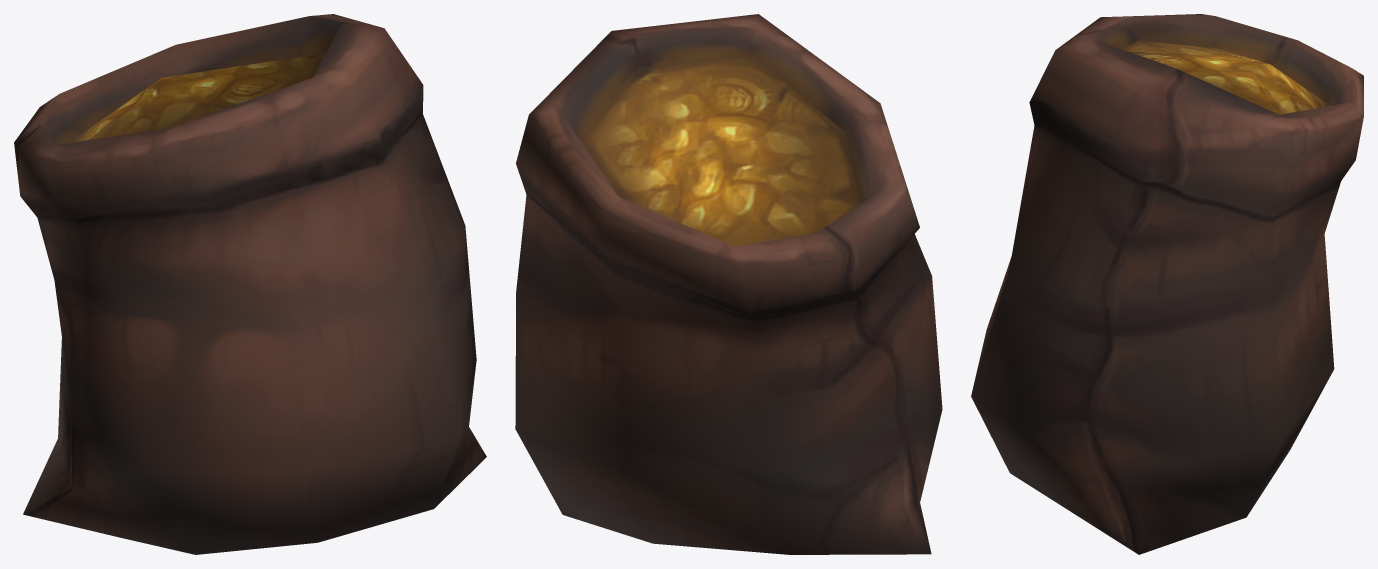
The model's file is sack_of_gold_large3.fbx.
3 renders of one model, left to right at view 1: azimuth 30°, elevation 25°; view 2: azimuth 150°, elevation 25°; view 3: azimuth 270°, elevation 25°, orthographic. The views are drawn at different scales.
Parts seen in each view (by area): view 1: sack_of_gold_large3; view 2: sack_of_gold_large3; view 3: sack_of_gold_large3.
Part boxes in pixels (<box>): sack_of_gold_large3: <box>14,14,486,554</box>; sack_of_gold_large3: <box>515,14,942,554</box>; sack_of_gold_large3: <box>971,14,1363,554</box>.
Bounding box in the file's own units: 94.01 × 94.69 × 78.04.
